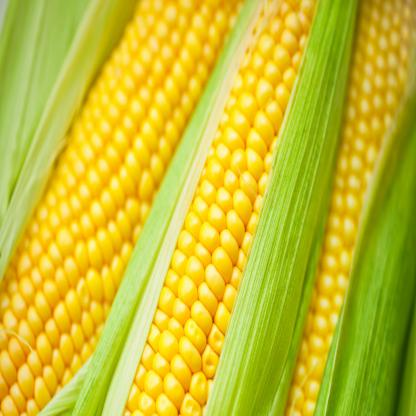---: (0, 0, 243, 416), (110, 0, 322, 416), (284, 0, 416, 413)
